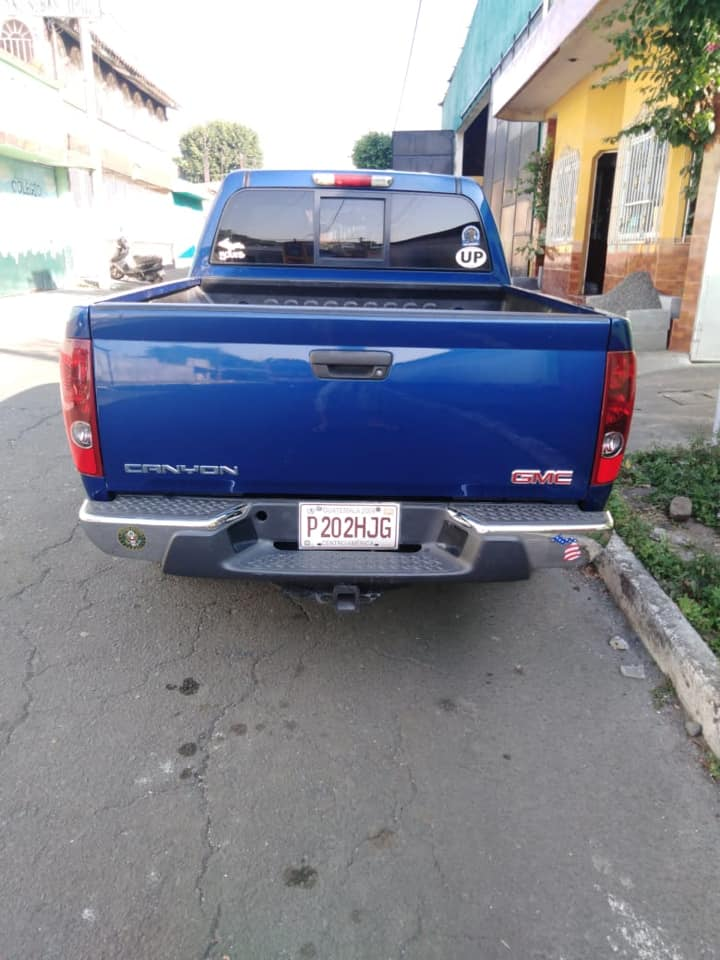pickup: (60, 163, 637, 613)
